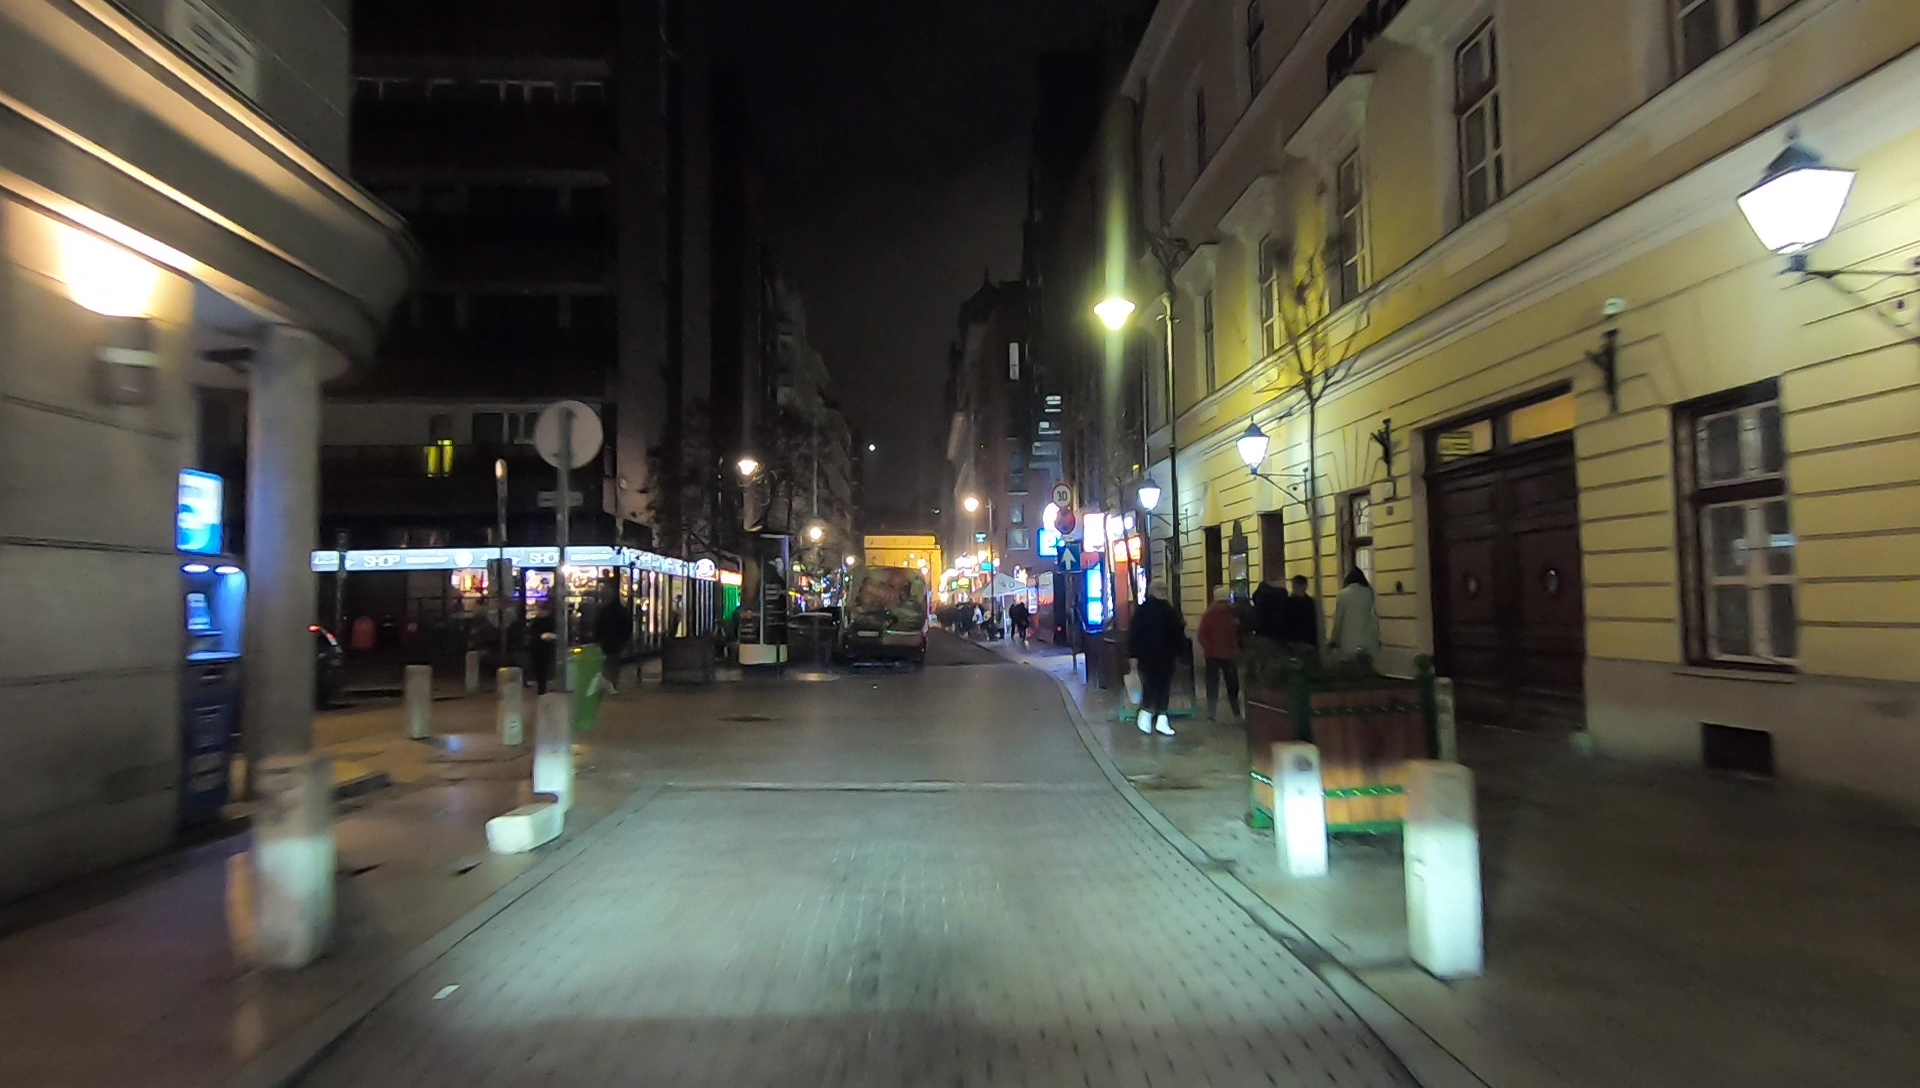person: (1126, 582, 1188, 747), (1197, 586, 1243, 717), (1332, 565, 1382, 682), (1252, 569, 1291, 686), (1286, 574, 1321, 673)
